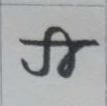i_matra: (51, 26, 75, 77)
